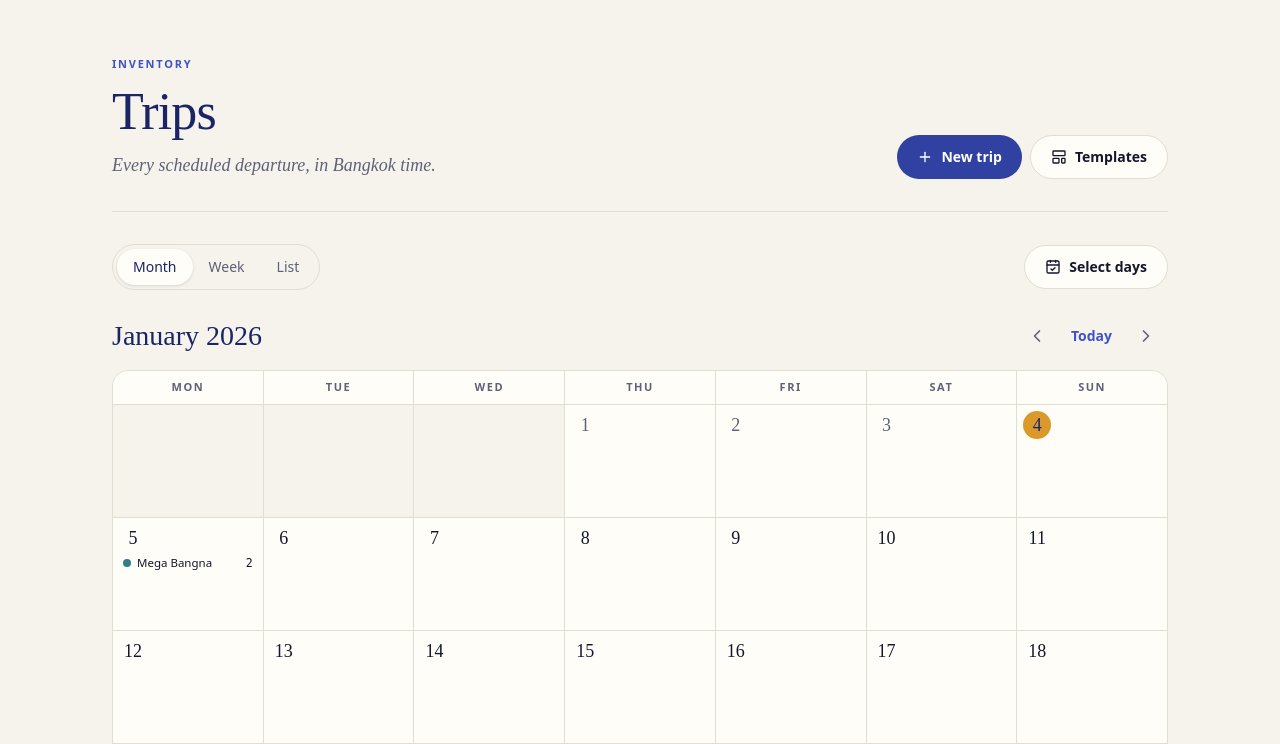
Test case: AdminTripsPage day templates › saves an existing day as a template
Click the button with aria-label "Monday 5 January, 2 departures" at (188, 574), box top-left (113, 518), bottom-right (263, 630)
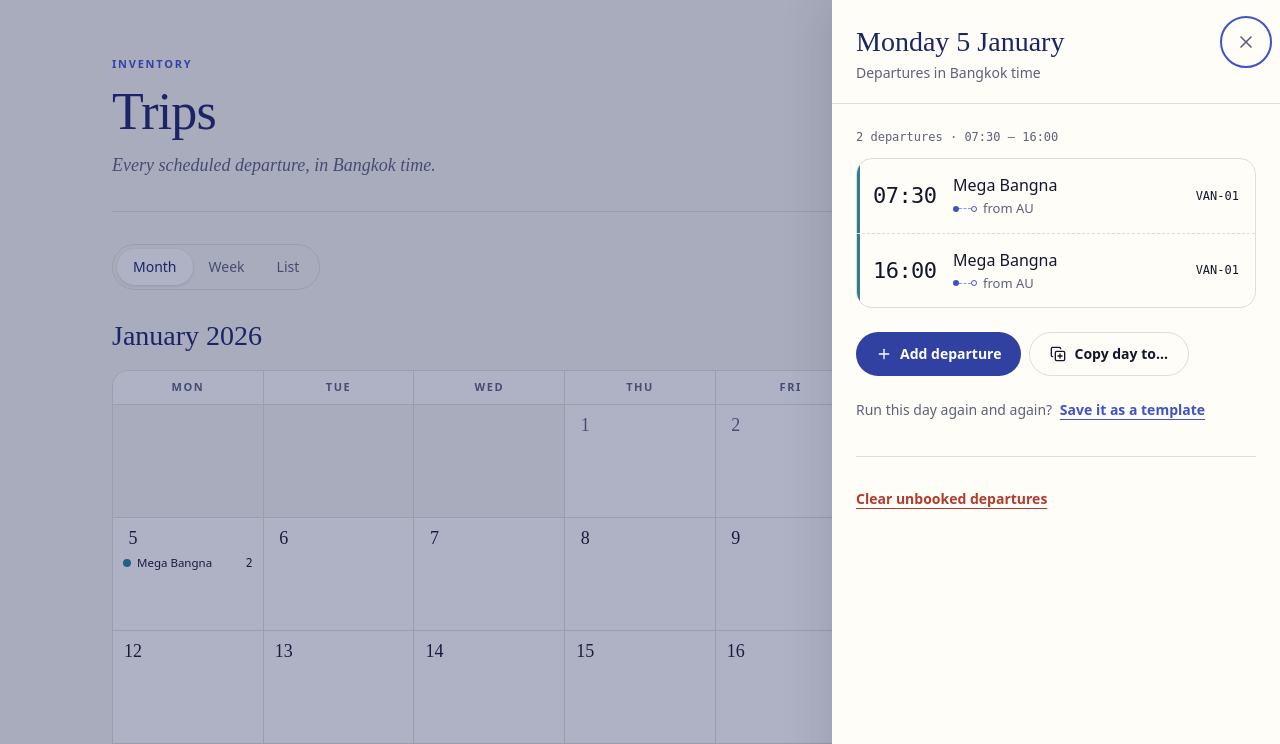
Click the button "Save it as a template" at (1132, 410), box top-left (1056, 388), bottom-right (1209, 432)
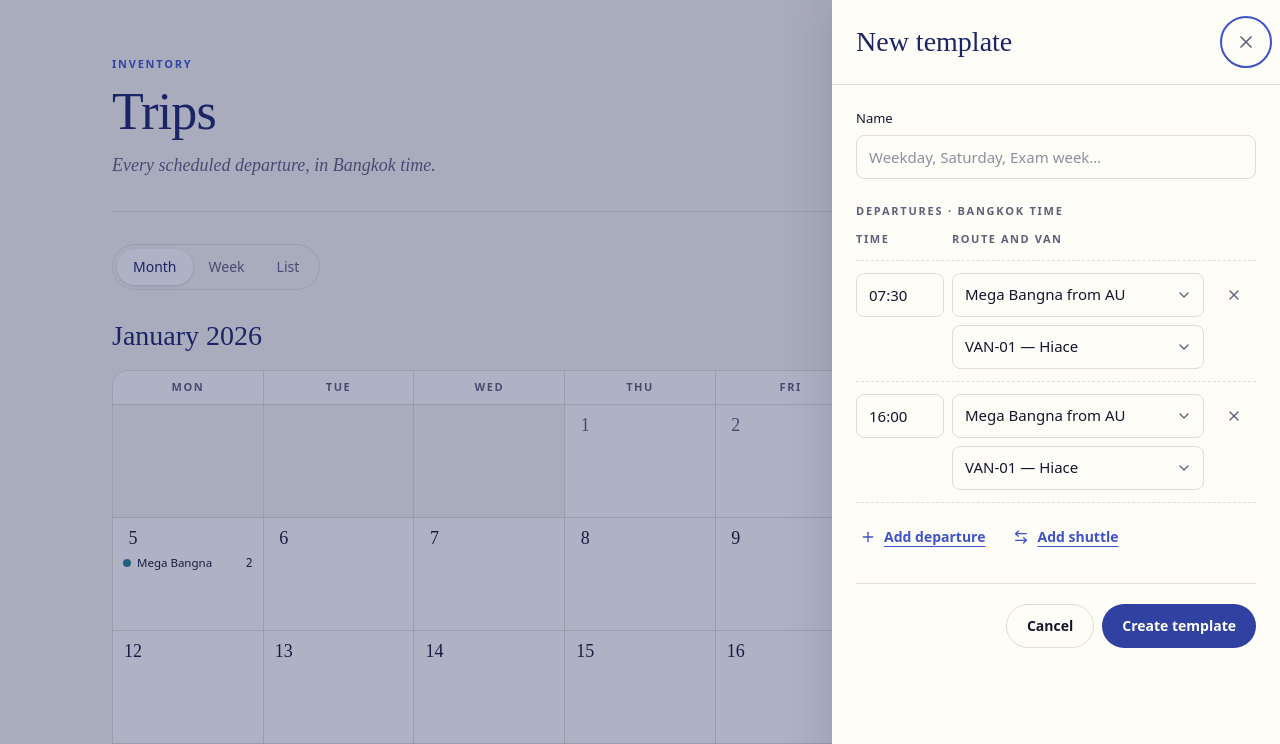
Now the heading "New template" is shown, box top-left (856, 24), bottom-right (1012, 59)
Now the 1st field named "Departure 1 time" holds "07:30", box top-left (856, 272), bottom-right (944, 316)
Now the 2nd field named "Departure 2 time" holds "16:00", box top-left (856, 394), bottom-right (944, 438)
